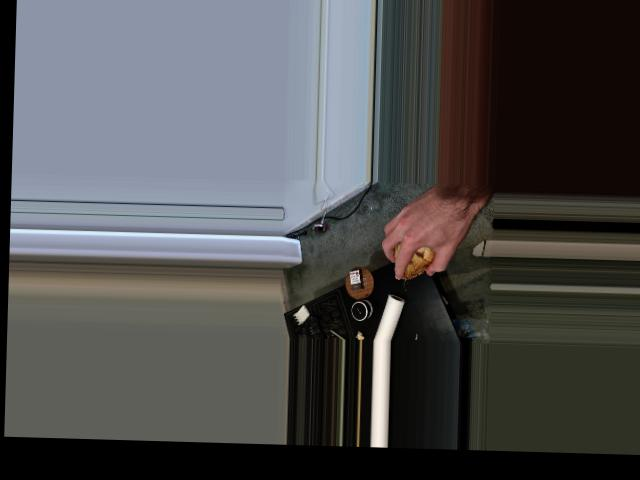onion: (394, 219, 447, 283)
